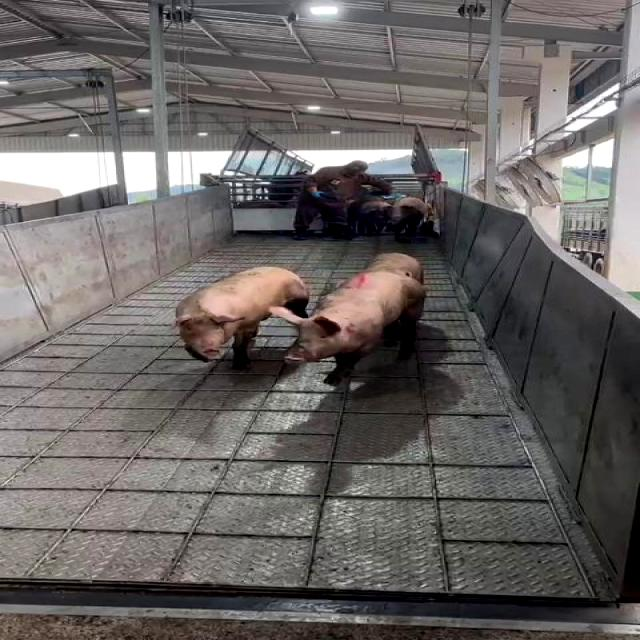pig: (274, 272, 424, 383), (176, 267, 308, 367), (364, 254, 422, 283)
